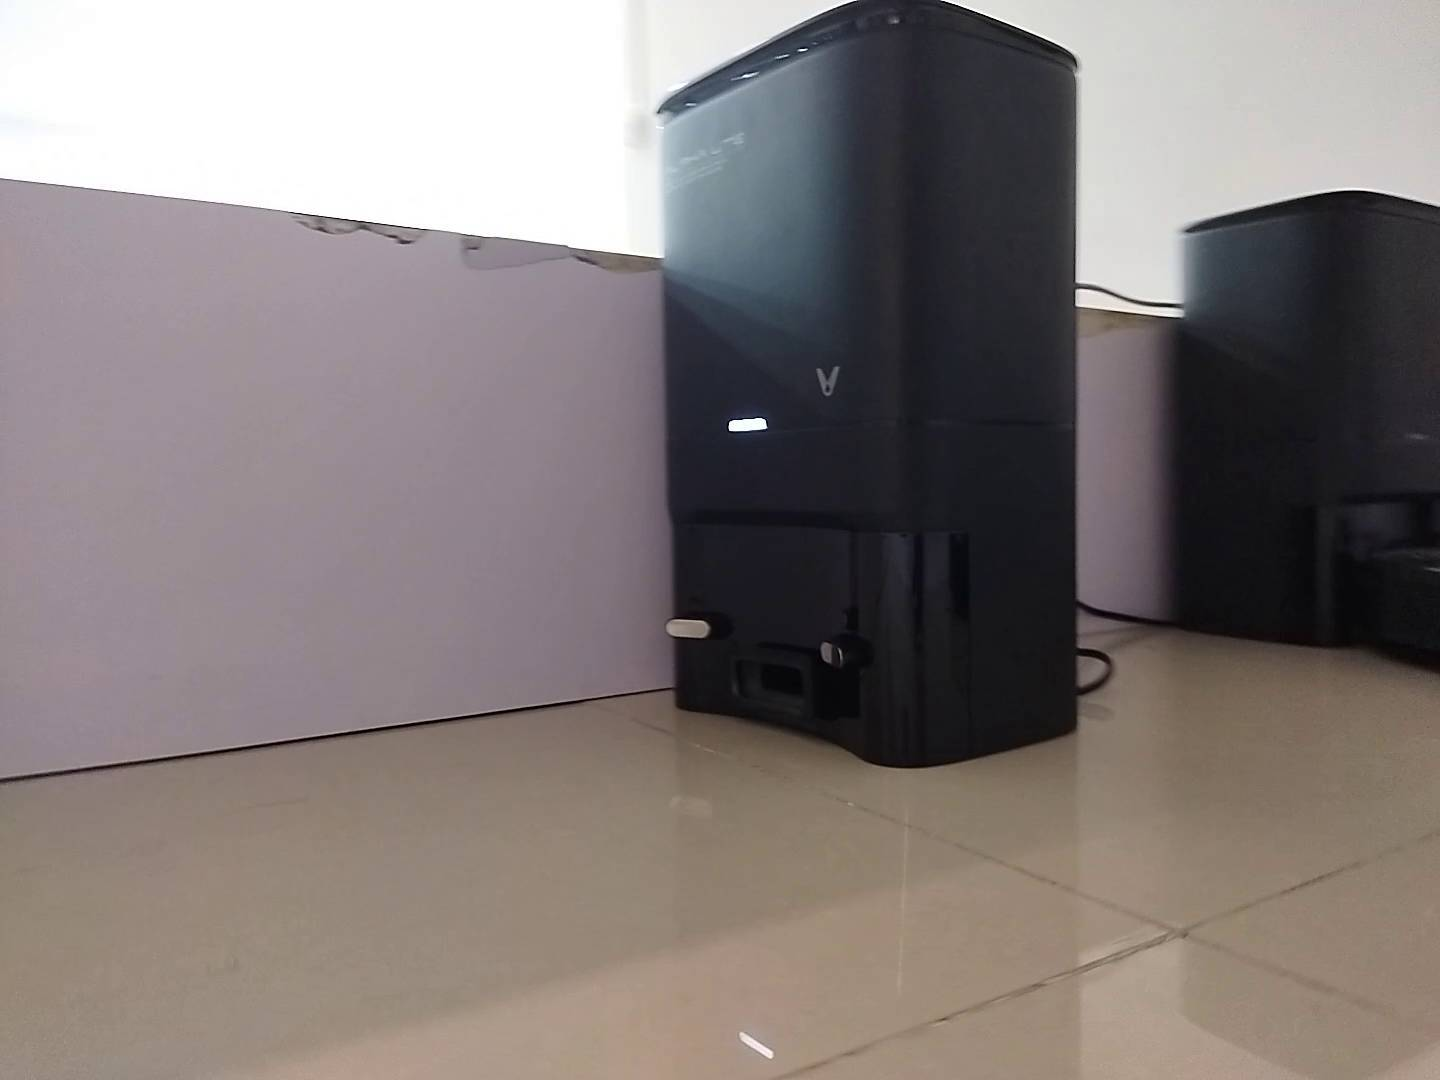dust collecting barrel: (657, 1, 1079, 769), (1181, 189, 1438, 646)
